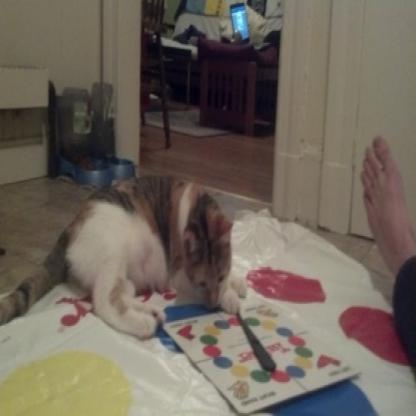Target: (0, 167, 256, 342)
